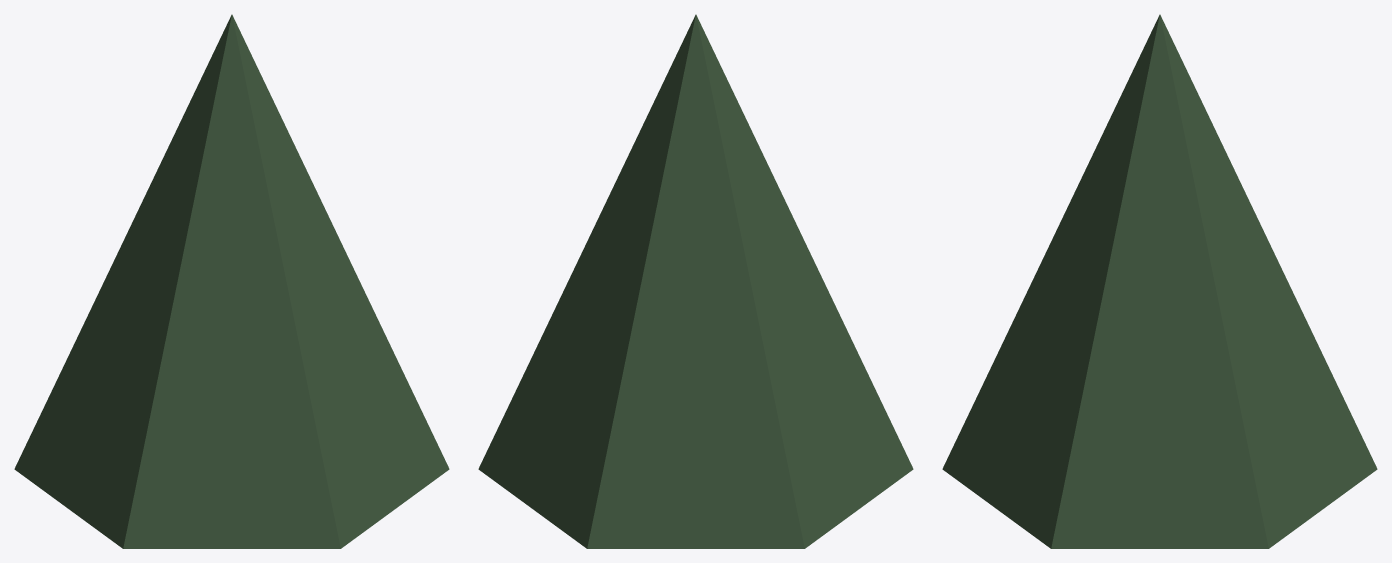
The model's file is nature_pine_b_lod2.glb.
3 renders of one model, left to right at view 1: azimuth 30°, elevation 25°; view 2: azimuth 150°, elevation 25°; view 3: azimuth 270°, elevation 25°, orthographic.
Visible parts, largest first — view 1: nature_pine_b_lod2; view 2: nature_pine_b_lod2; view 3: nature_pine_b_lod2.
Boxes of the visible parts, bbox=[...] form: nature_pine_b_lod2: bbox=[14, 14, 449, 548]; nature_pine_b_lod2: bbox=[478, 14, 913, 548]; nature_pine_b_lod2: bbox=[942, 14, 1377, 548].
Size of the model in its own units: 2.59 by 3.45 by 2.99.
